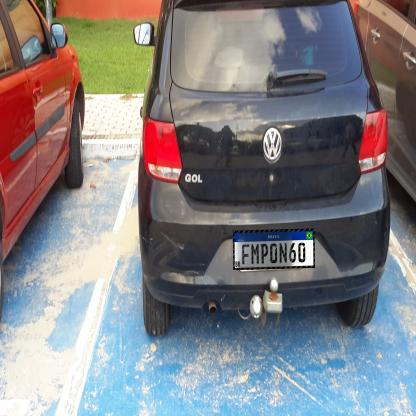PlacaM: (233, 229, 315, 270)
